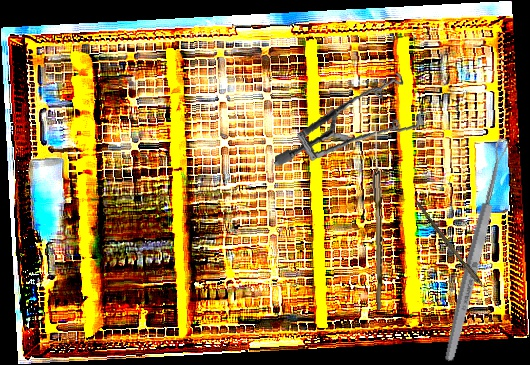Speculum: (274, 56, 431, 186)
Surgical Spoon: (441, 136, 512, 364), (413, 200, 504, 312), (370, 123, 386, 310)
